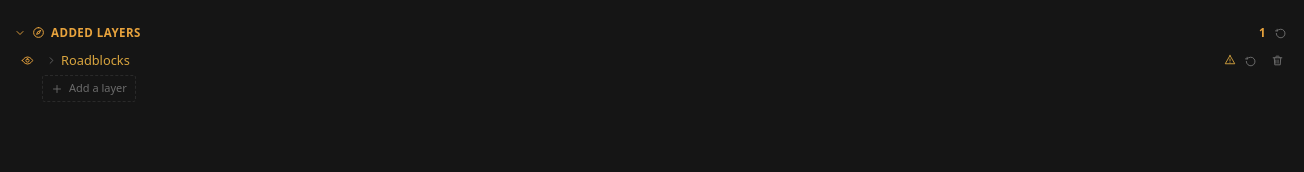
Test: a row › says a stale snapshot is stale, folded or not
Expected: the text "Roadblocks" is shown, [61,51,130,69]
Step 1. Click the button with class "fold" → [95, 60], box [46,49,1220,72]
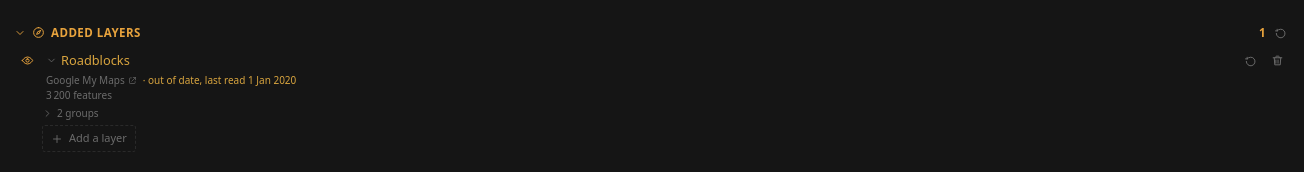
Now the text "out of date" is shown, box [148,73,296,87]
